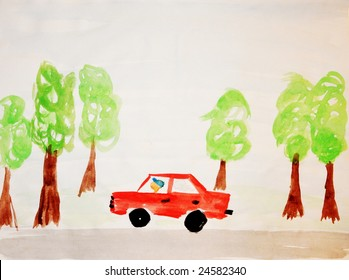car: (111, 172, 236, 233)
tree: (27, 60, 77, 229), (274, 73, 313, 219), (78, 65, 120, 197), (200, 88, 253, 191), (312, 72, 346, 224), (1, 89, 34, 230)
